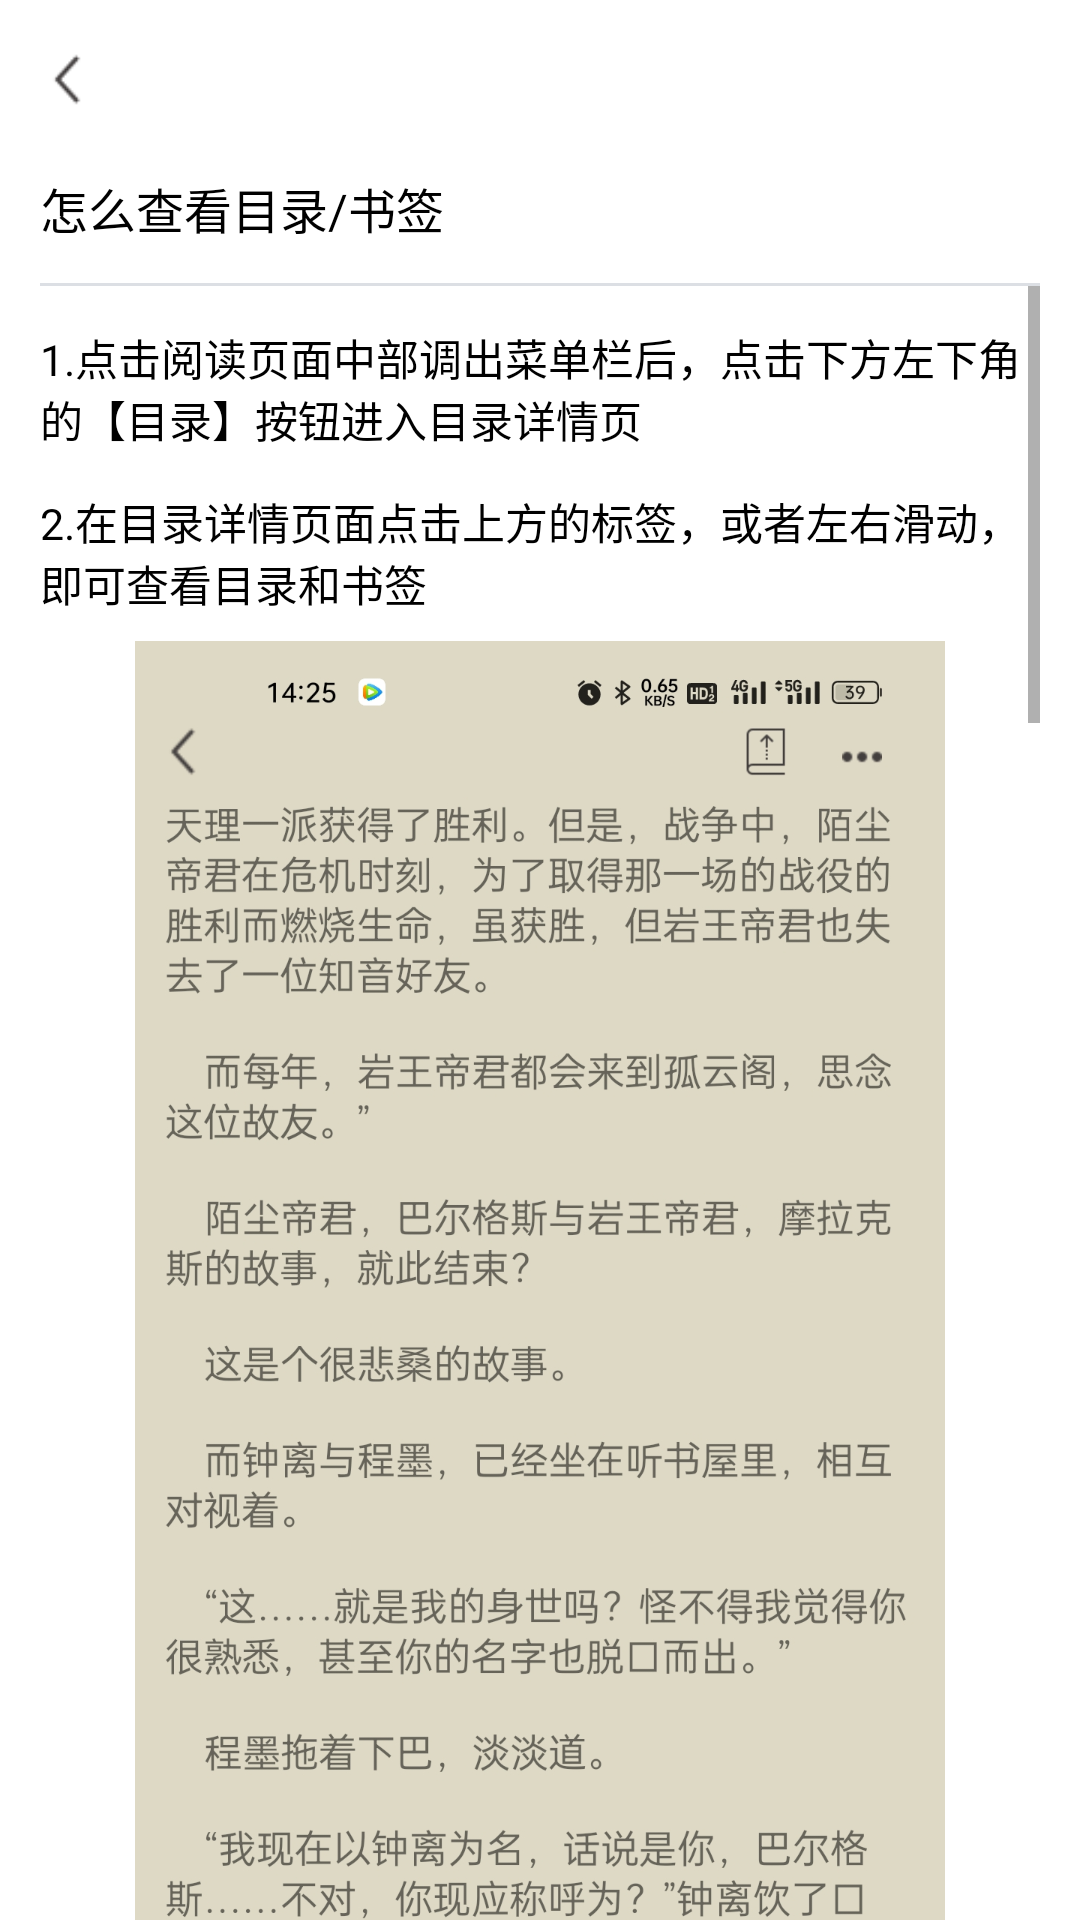

Icons on this 1080×1920 Android screen, each with its box as (x1, y1, x2, y2):
返回: (55, 55, 80, 104)
